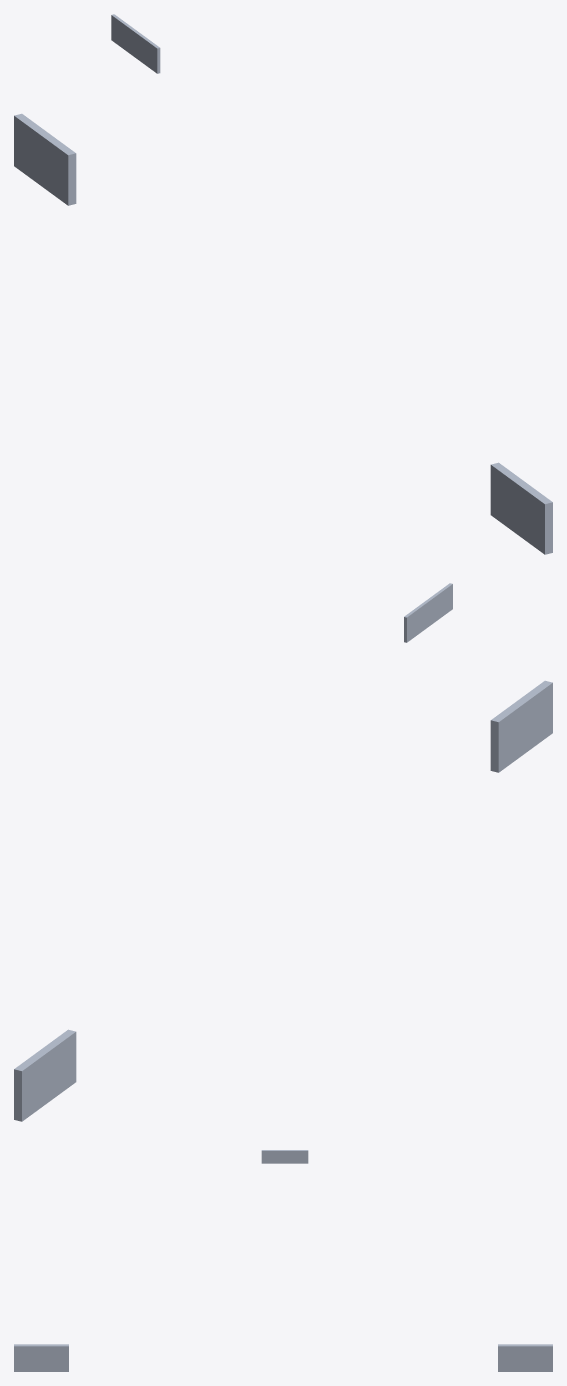
Rendered from Mirrors.glb.
3 renders of one model, top to bottom at view 1: azimuth 30°, elevation 25°; view 2: azimuth 150°, elevation 25°; view 3: azimuth 270°, elevation 25°, orthographic. The views are drawn at different scales.
Parts seen in each view (by area): view 1: RearMirrorCase.009; view 2: RearMirrorCase.009; view 3: RearMirrorCase.009.
Boxes of the visible parts, x1=… form: RearMirrorCase.009: x1=14, y1=14, x2=552, y2=554; RearMirrorCase.009: x1=14, y1=583, x2=552, y2=1121; RearMirrorCase.009: x1=14, y1=1150, x2=552, y2=1371.
Bounding box in the file's own units: 0.0151 × 0.0344 × 0.0912.
1 material, 1 textured.
